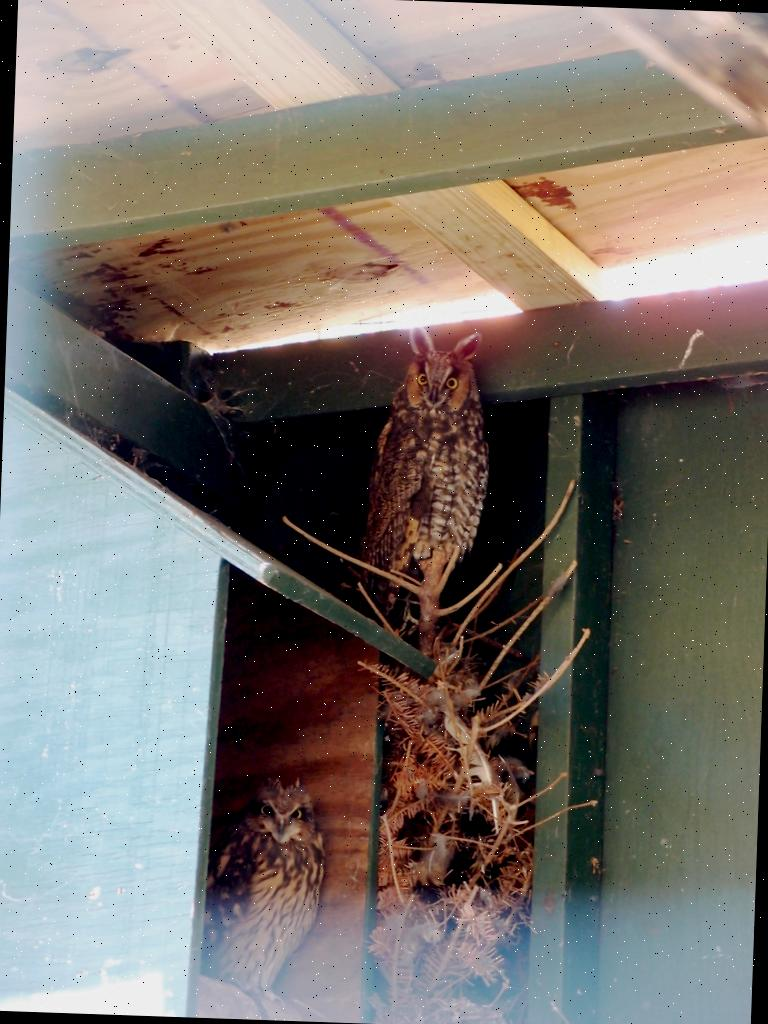Owl: (374, 320, 496, 618), (188, 778, 329, 1009)
